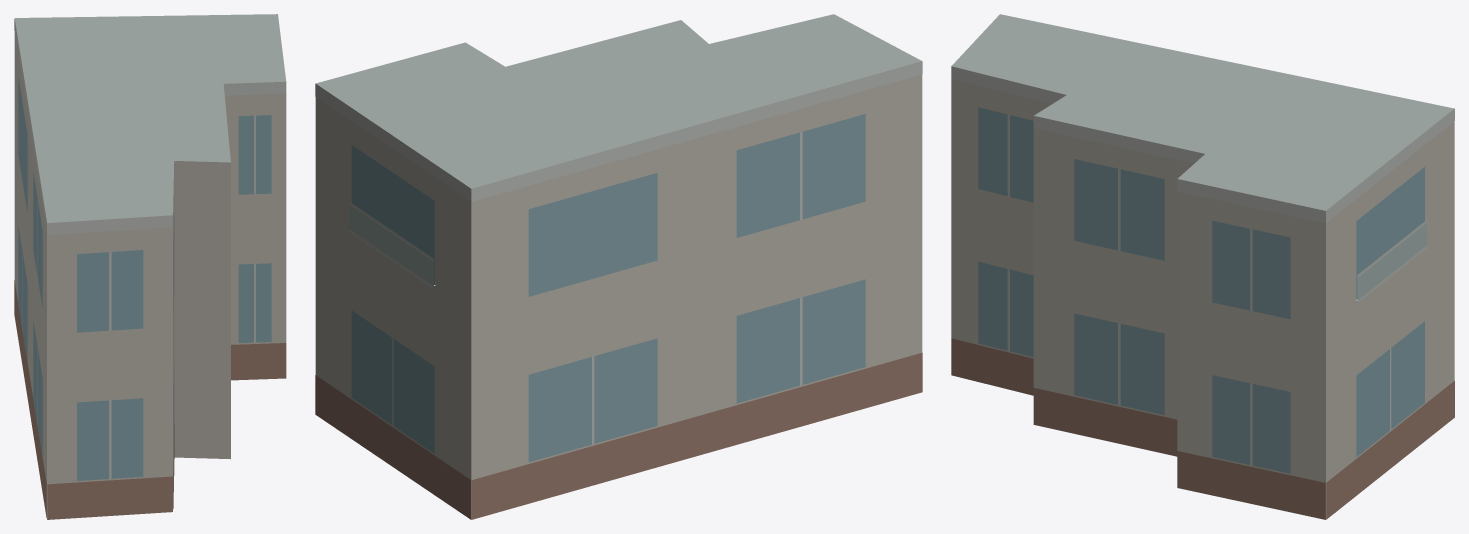
The model's file is survey-upis-32812369.glb.
3 renders of one model, left to right at view 1: azimuth 30°, elevation 25°; view 2: azimuth 150°, elevation 25°; view 3: azimuth 270°, elevation 25°, orthographic. The views are drawn at different scales.
Visible parts, largest first — view 1: survey-upis-32812369.tmp; view 2: survey-upis-32812369.tmp; view 3: survey-upis-32812369.tmp.
Part boxes in pixels (bbox=[...]): survey-upis-32812369.tmp: bbox=[14, 14, 286, 519]; survey-upis-32812369.tmp: bbox=[315, 14, 922, 519]; survey-upis-32812369.tmp: bbox=[951, 14, 1454, 519].
Bounding box in the file's own units: 8.35 × 6.1 × 9.02.
